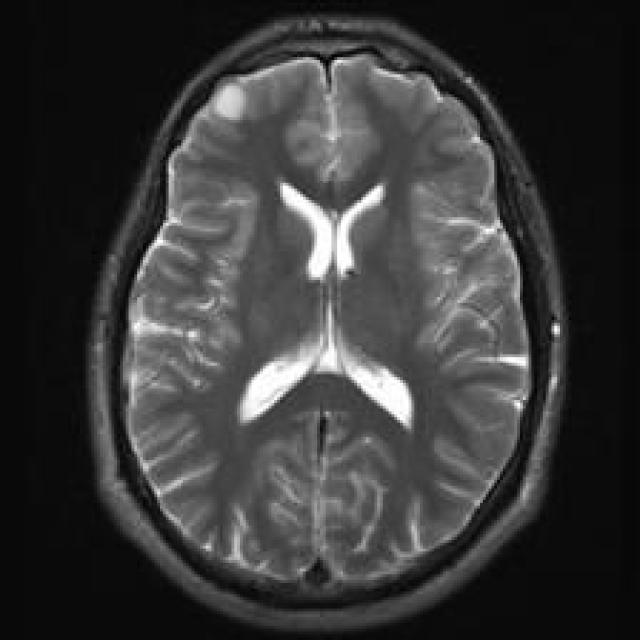no_tumor: (77, 13, 577, 640)
